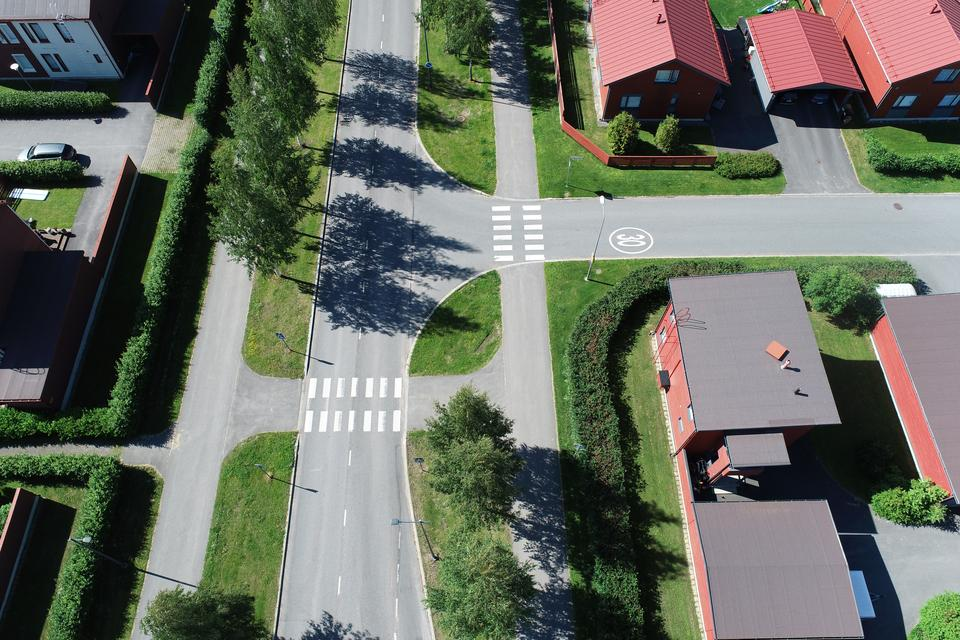intersection: (158, 339, 573, 499), (301, 148, 568, 312)
